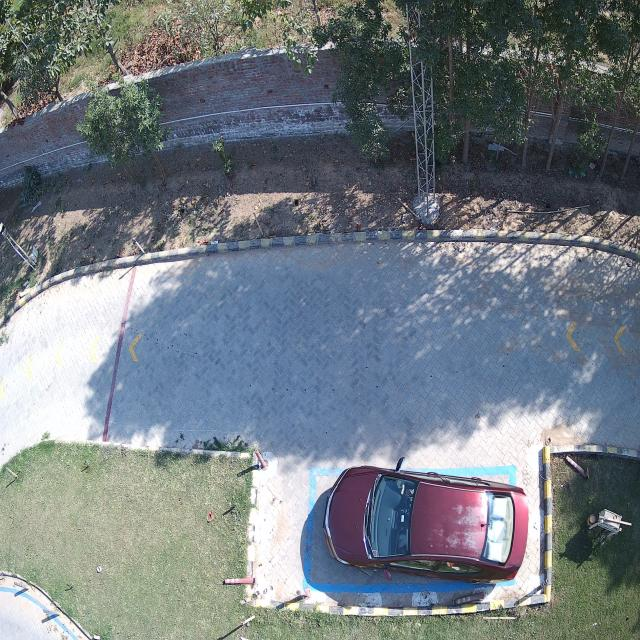car: (324, 467, 529, 582)
